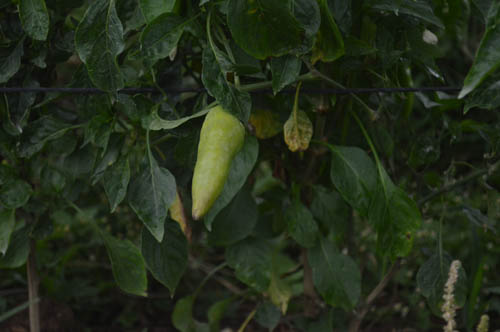ChiliPepper: (190, 106, 245, 220)
